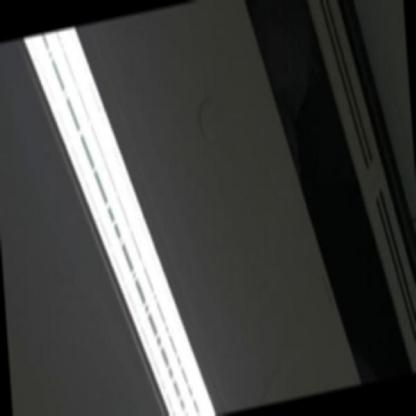light_on: (19, 0, 227, 415)
